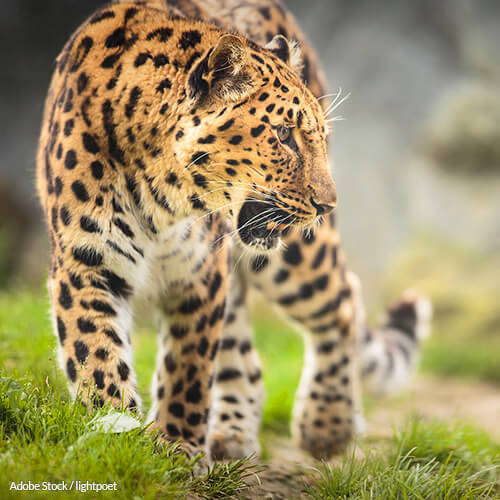amur_leopard: (30, 2, 362, 438)
